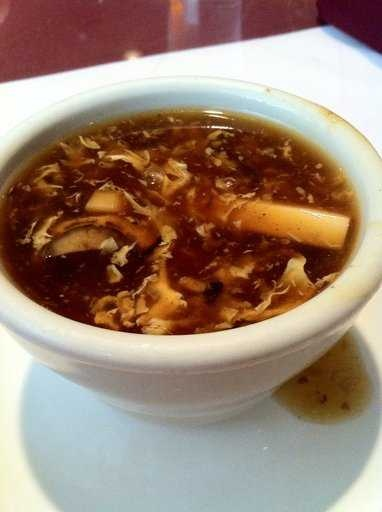soup: (12, 73, 349, 380)
